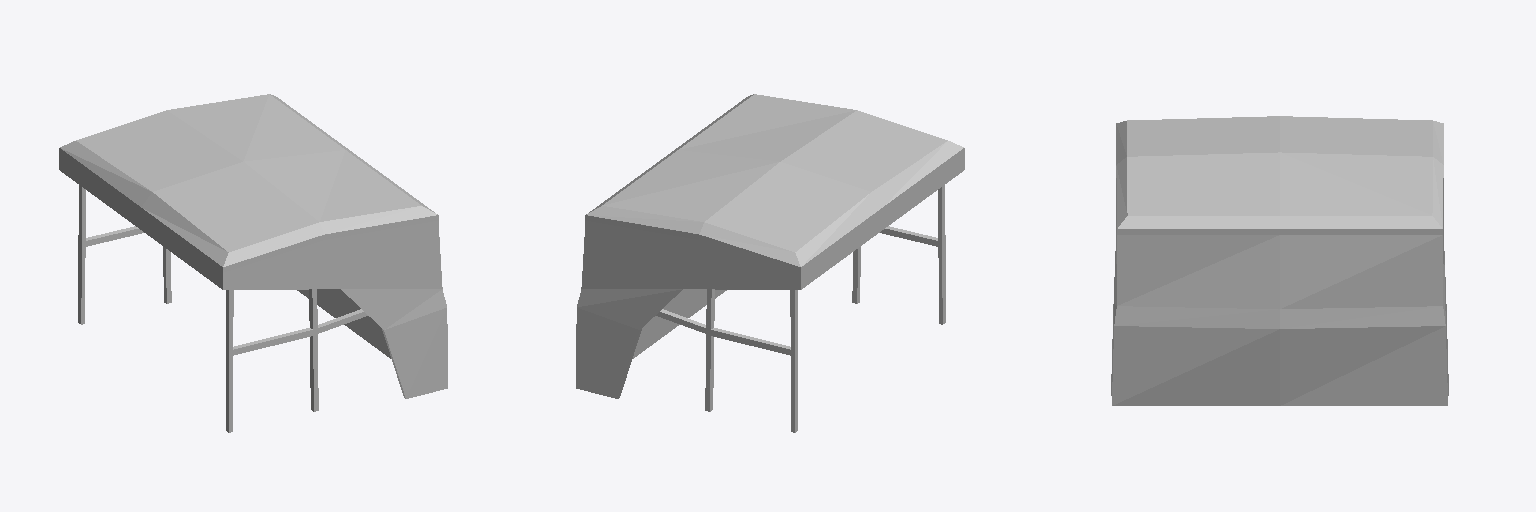
File: canopy.obj
3 renders of one model, left to right at view 1: azimuth 30°, elevation 25°; view 2: azimuth 150°, elevation 25°; view 3: azimuth 270°, elevation 25°, orthographic.
Visible parts, largest first — view 1: default; view 2: default; view 3: default.
Part boxes in pixels (left/top/right/bottom): default: left=59, top=94, right=447, bottom=432; default: left=576, top=94, right=964, bottom=432; default: left=1111, top=116, right=1448, bottom=405.
Size of the model in its own units: 102 by 83.09 by 130.